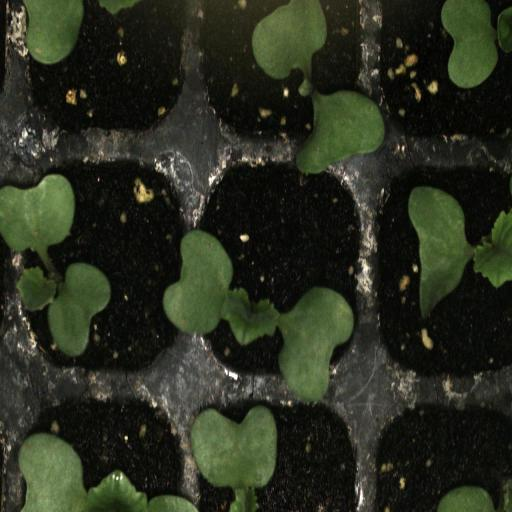seedling: (10, 147, 198, 386), (202, 146, 371, 387), (374, 146, 512, 388), (199, 0, 373, 149)
